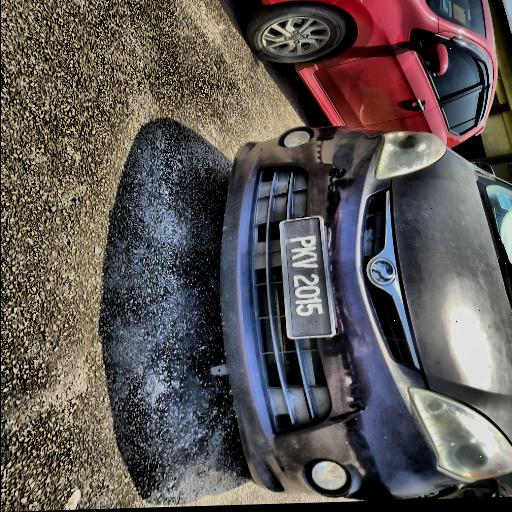license_plate: (280, 215, 334, 338)
